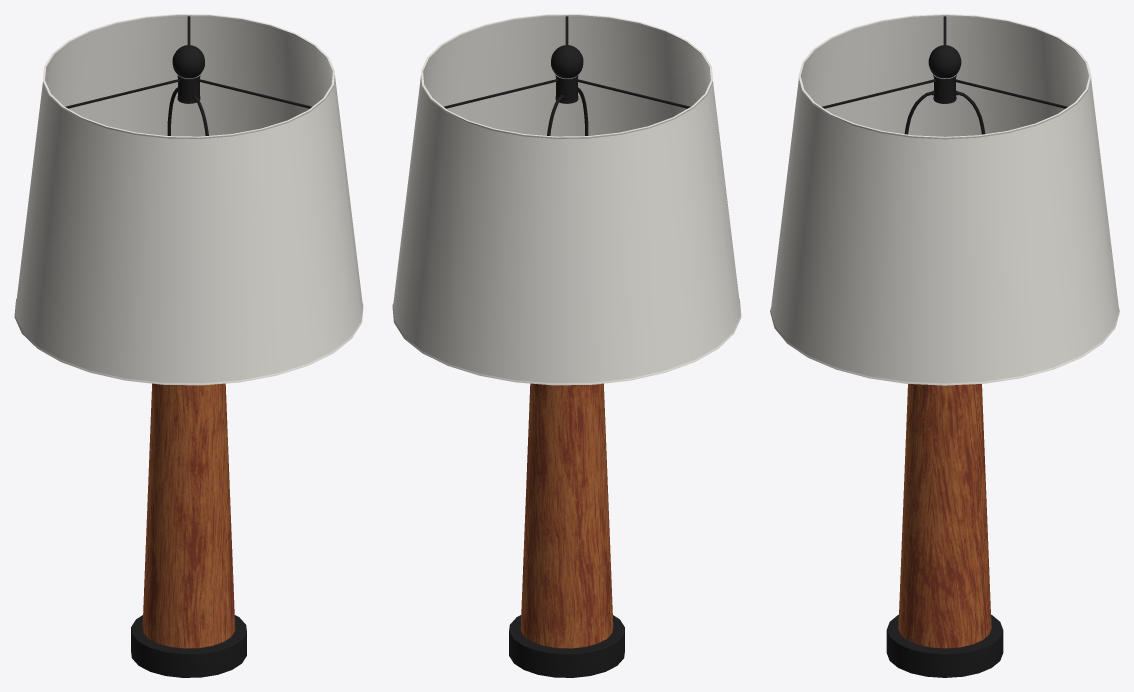
The model's file is lamp_B07DT4GY4W.glb.
3 renders of one model, left to right at view 1: azimuth 30°, elevation 25°; view 2: azimuth 150°, elevation 25°; view 3: azimuth 270°, elevation 25°, orthographic.
Visible parts, largest first — view 1: Root; view 2: Root; view 3: Root.
Boxes of the visible parts, x1=… form: Root: x1=14, y1=14, x2=363, y2=677; Root: x1=392, y1=14, x2=741, y2=677; Root: x1=770, y1=14, x2=1119, y2=677.
Size of the model in its own units: 0.3485 by 0.6675 by 0.3485.
Materials: 1 (1 with a texture image).
